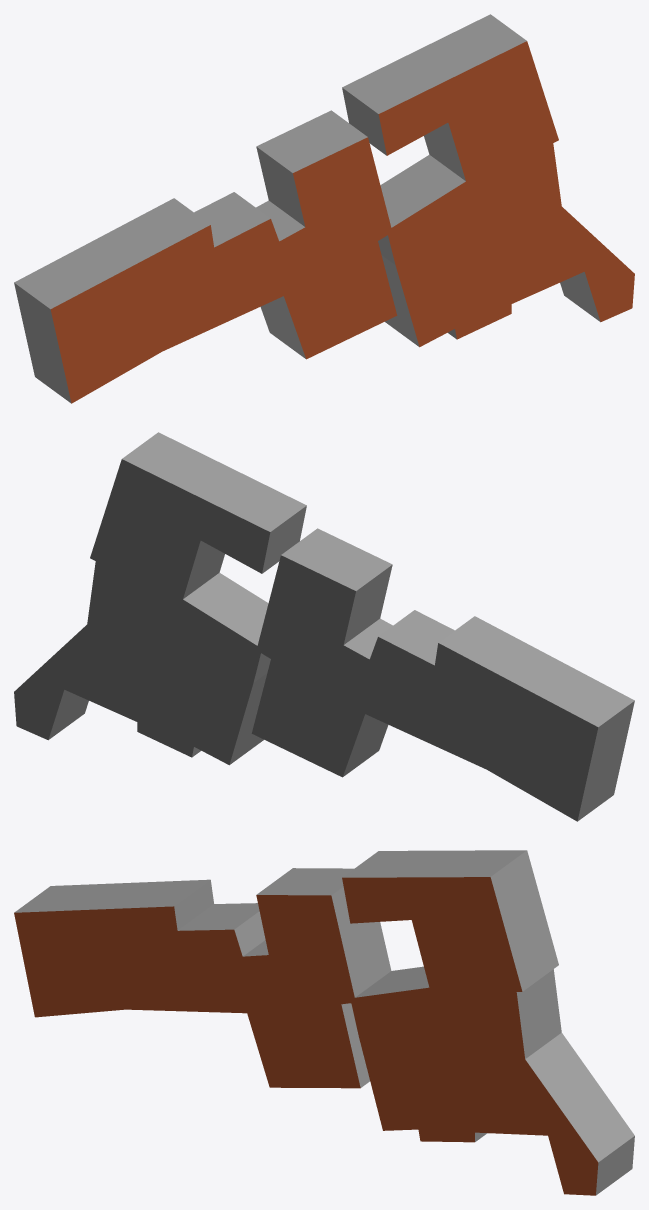
Rendered from construction_1205_assumed_A_Casa_h6m.obj.
The picture shows the model from 3 angles, top to bottom: view 1: azimuth 30°, elevation 25°; view 2: azimuth 150°, elevation 25°; view 3: azimuth 330°, elevation 25°; orthographic projection.
Parts seen in each view (by area): view 1: construction_1205_assumed_A_Casa; view 2: construction_1205_assumed_A_Casa; view 3: construction_1205_assumed_A_Casa.
Boxes of the visible parts, box(x1,y1,x2,y2) form: construction_1205_assumed_A_Casa: box(14, 14, 634, 403); construction_1205_assumed_A_Casa: box(14, 432, 634, 821); construction_1205_assumed_A_Casa: box(14, 850, 634, 1195).
Size of the model in its own units: 55.31 by 27.07 by 6.
